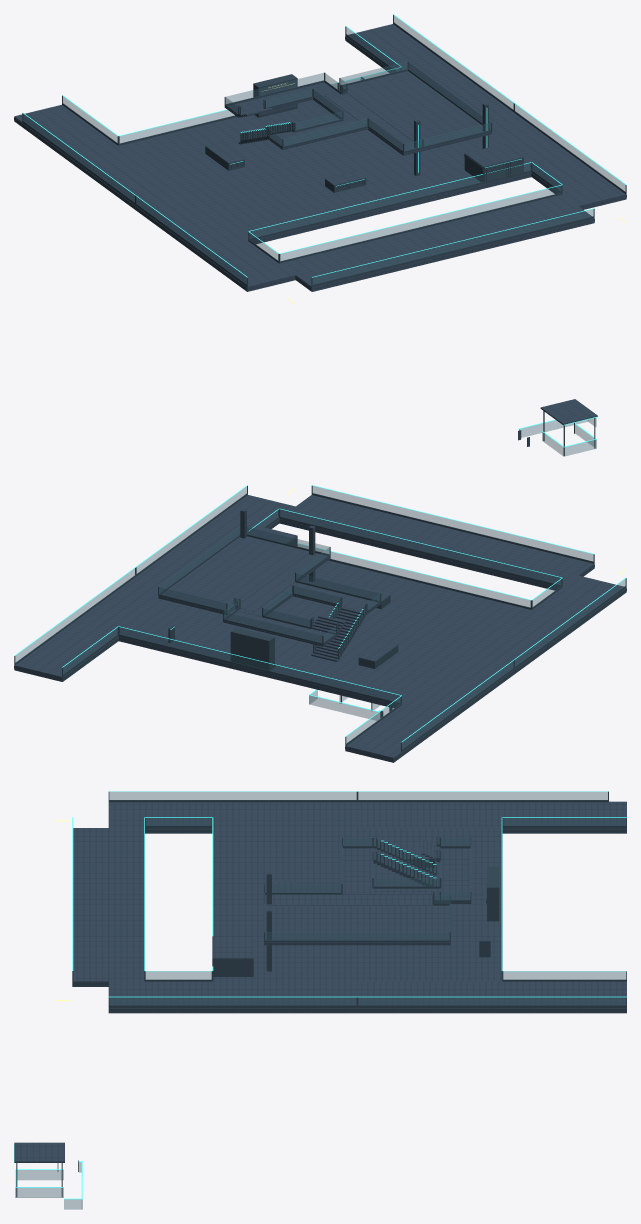
The model's file is terrace-portal-3.glb.
3 renders of one model, top to bottom at view 1: azimuth 30°, elevation 25°; view 2: azimuth 150°, elevation 25°; view 3: azimuth 270°, elevation 25°, orthographic. The views are drawn at different scales.
Parts seen in each view (by area): view 1: terrace-portal-3; view 2: terrace-portal-3; view 3: terrace-portal-3.
Boxes of the visible parts, x1=… form: terrace-portal-3: x1=14, y1=14, x2=626, y2=456; terrace-portal-3: x1=14, y1=485, x2=626, y2=762; terrace-portal-3: x1=14, y1=791, x2=626, y2=1209.
Size of the model in its own units: 47.1 by 30.8 by 59.13.
Materials: 5 (1 with a texture image).
